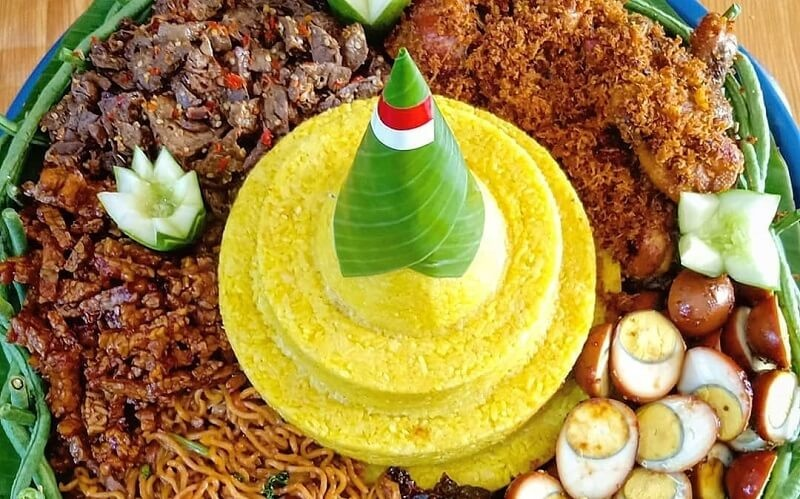tumpeng: (289, 51, 507, 340)
